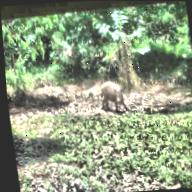boar: (92, 78, 134, 122)
